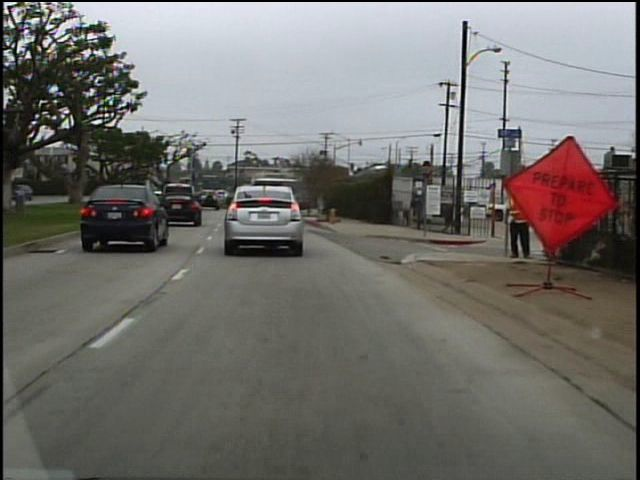person: (498, 178, 535, 261)
